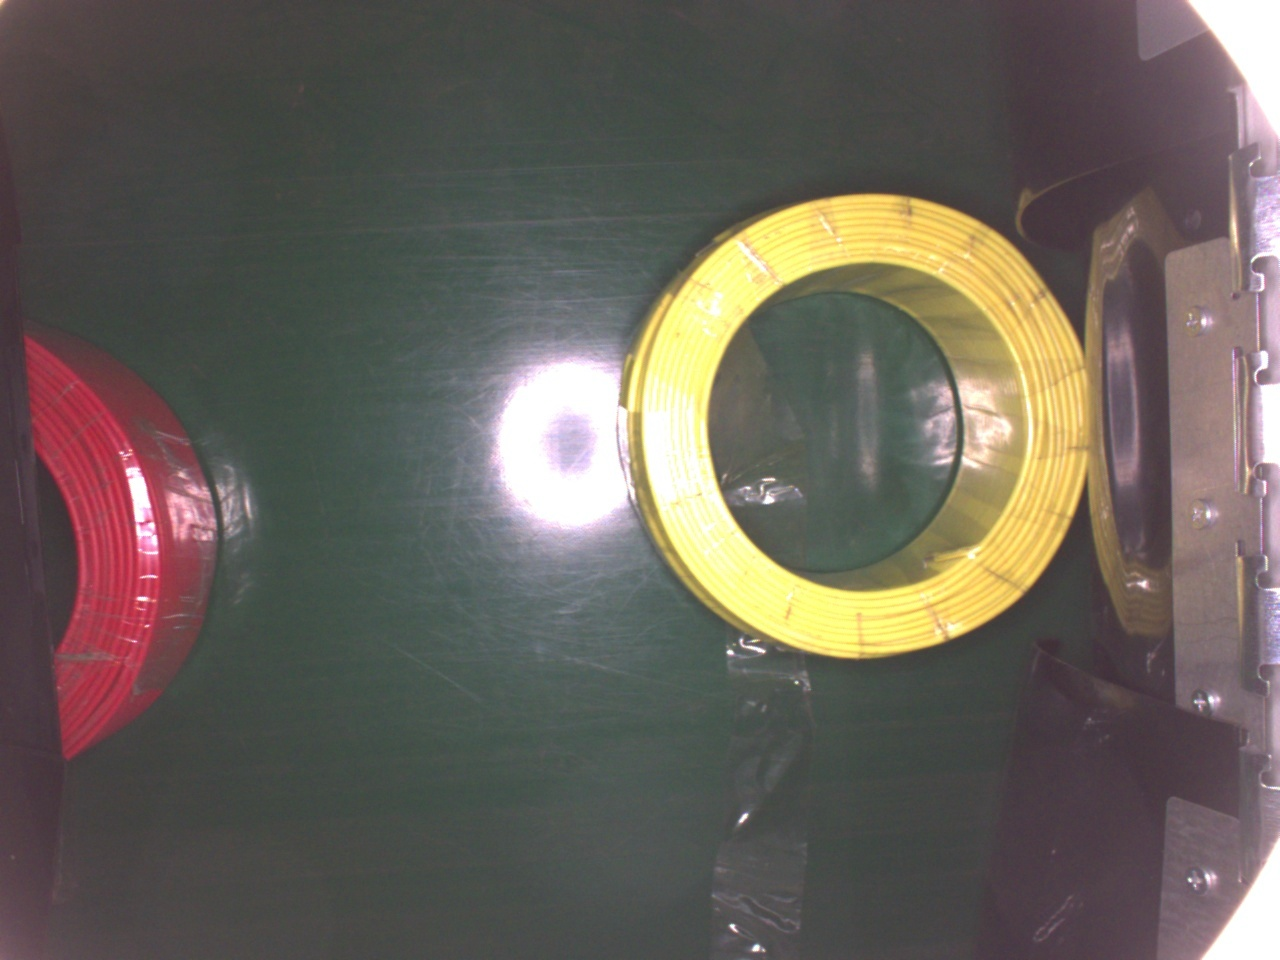red: (20, 310, 222, 764)
yellow: (616, 190, 1089, 663)
